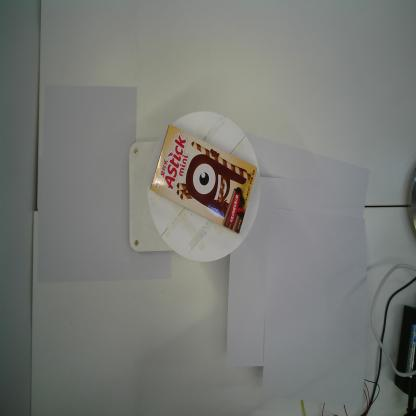Dessert: (149, 122, 259, 235)
